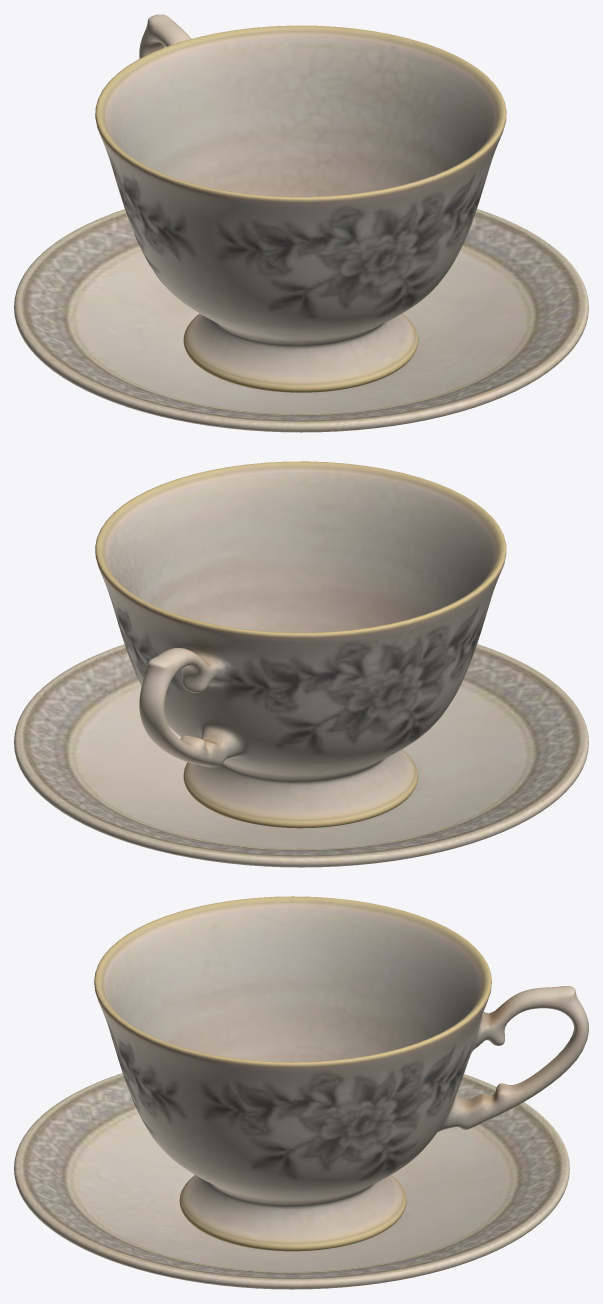
Rendered from f_DiffuseTransmissionTeacup.glb.
3 views of the same model, one above another, from view 1: azimuth 30°, elevation 25°; view 2: azimuth 150°, elevation 25°; view 3: azimuth 270°, elevation 25° (orthographic). The views are drawn at different scales.
Parts seen in each view (by area): view 1: tea_cup, tea_saucer; view 2: tea_cup, tea_saucer; view 3: tea_cup, tea_saucer.
Part boxes in pixels (x1,y1,x2,y2): tea_cup: (95,14,506,392); tea_saucer: (14,209,588,432); tea_cup: (95,461,506,828); tea_saucer: (14,644,588,867); tea_cup: (94,896,588,1251); tea_saucer: (14,1073,569,1289).
Size of the model in its own units: 0.1486 by 0.0704 by 0.1537.
2 materials, 2 textured.
